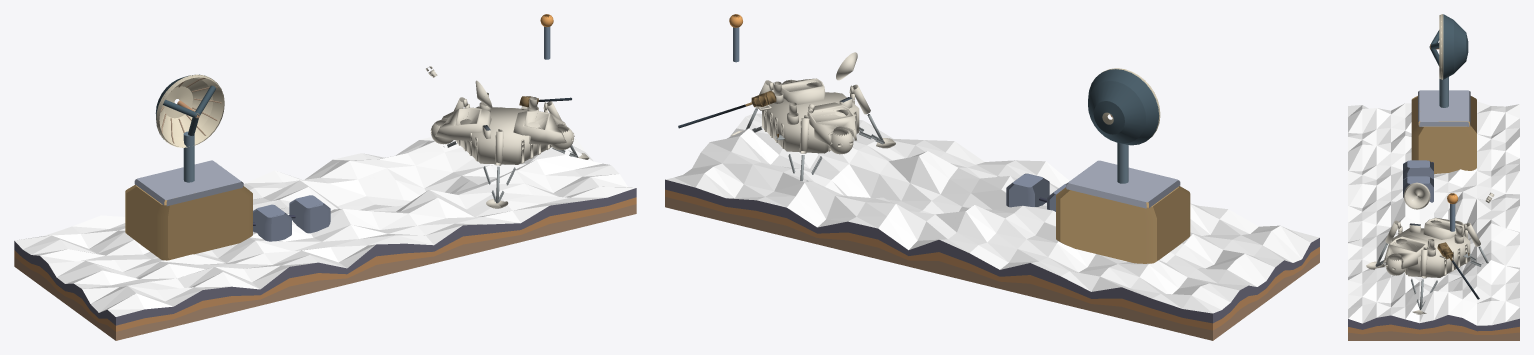
File: apolo-red.obj
The picture shows the model from 3 angles, left to right: view 1: azimuth 30°, elevation 25°; view 2: azimuth 150°, elevation 25°; view 3: azimuth 270°, elevation 25°; orthographic projection. The views are drawn at different scales.
Visible parts, largest first — view 1: apolo-red; view 2: apolo-red; view 3: apolo-red.
Boxes of the visible parts, <box> form: apolo-red: <box>14,14,636,340</box>; apolo-red: <box>665,14,1319,340</box>; apolo-red: <box>1348,14,1519,340</box>.
Bounding box in the file's own units: 1.51 × 0.523 × 0.5.
